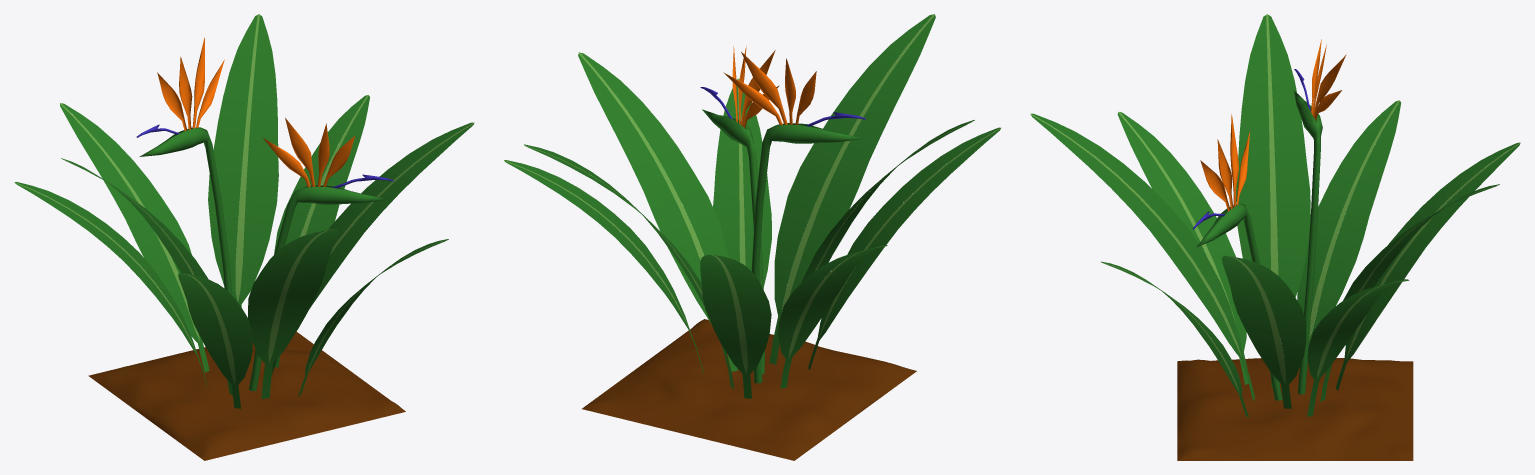
Rendered from bird-of-paradise-p3-bloom.glb.
The picture shows the model from 3 angles, left to right: view 1: azimuth 30°, elevation 25°; view 2: azimuth 150°, elevation 25°; view 3: azimuth 270°, elevation 25°; orthographic projection. The views are drawn at different scales.
Visible parts, largest first — view 1: 3_nft_bloom; view 2: 3_nft_bloom; view 3: 3_nft_bloom.
Boxes of the visible parts, x1,y1,x2,y2 form: 3_nft_bloom: [14, 14, 474, 460]; 3_nft_bloom: [504, 14, 1001, 460]; 3_nft_bloom: [1030, 14, 1520, 460].
Size of the model in its own units: 1.37 by 1.14 by 1.45.
